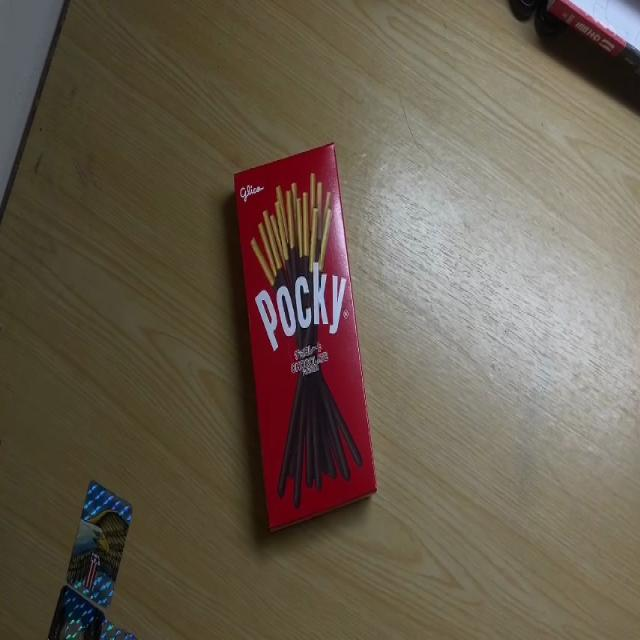Pocky: (233, 142, 378, 534)
